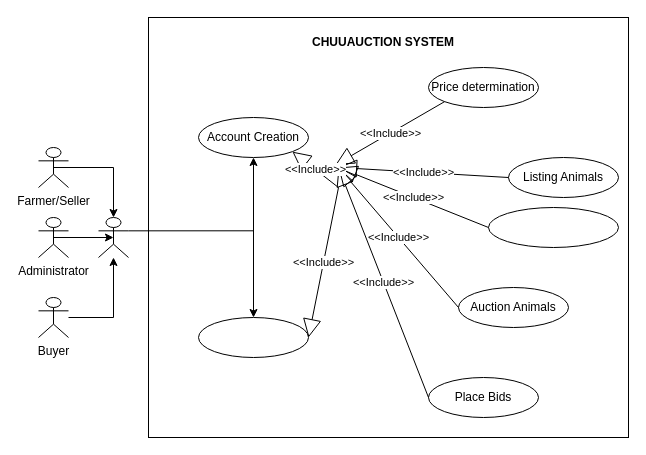
The diagram is 646 pixels wide and 455 high, and some of its shapes have lost their labels. The shapes that lost their labels are listed below. From the top down, each one's box as (x1, y1, x2, y2) in pixels, then its label:
(98, 216, 128, 258): Actor
(488, 206, 618, 248): Ownership + Health Verification
(198, 316, 308, 358): Account Login
